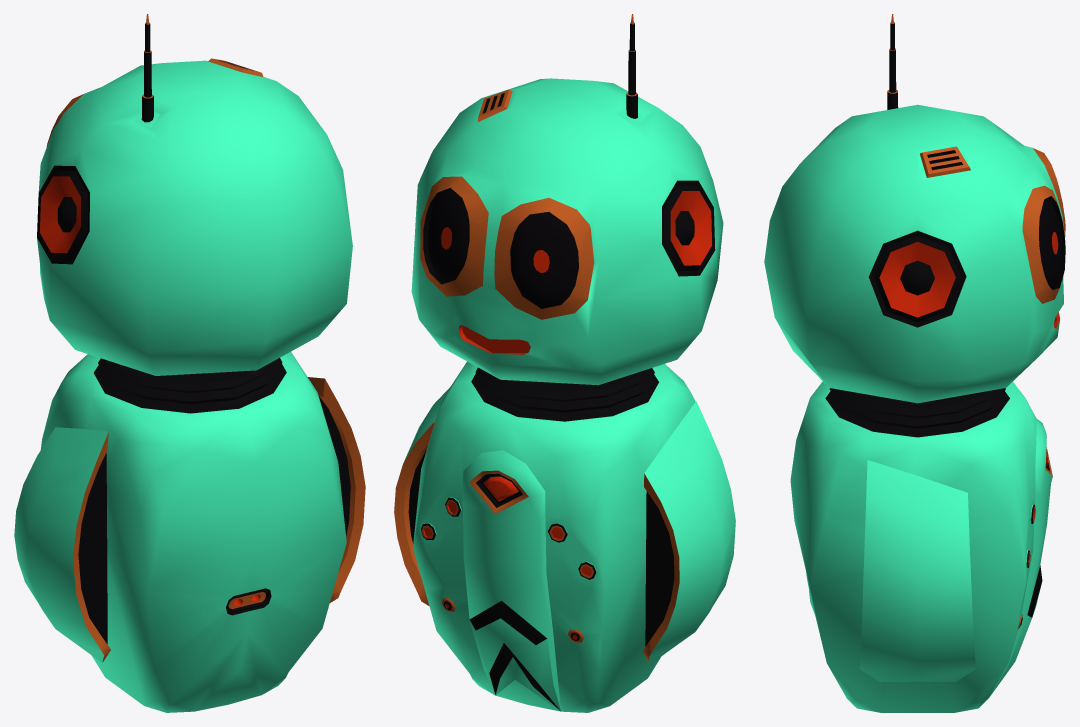
Rendered from Mr Conchy Goober.fbx.
3 renders of one model, left to right at view 1: azimuth 30°, elevation 25°; view 2: azimuth 150°, elevation 25°; view 3: azimuth 270°, elevation 25°, orthographic. The views are drawn at different scales.
Parts seen in each view (by area): view 1: Cylinder (×4); view 2: Cylinder (×5); view 3: Cylinder (×5).
Part boxes in pixels (box(x1,y1,x2,y2)): Cylinder (×4): box(14, 14, 365, 712); Cylinder (×5): box(394, 14, 735, 712); Cylinder (×5): box(764, 14, 1065, 712).
Size of the model in its own units: 228 by 465 by 194.
